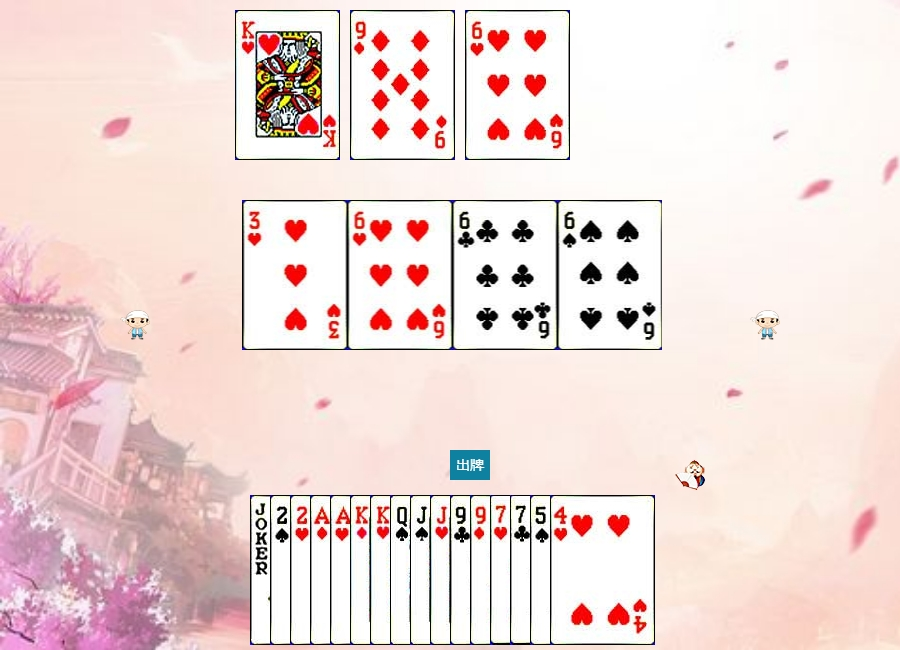11~3: (430, 495, 535, 645)
11~4: (410, 495, 515, 645)
12~4: (390, 495, 495, 645)
13~1: (350, 495, 455, 645)
13~3: (235, 10, 340, 160), (370, 495, 475, 645)
14~1: (310, 495, 415, 645)
14~3: (330, 495, 435, 645)
15~3: (290, 495, 395, 645)
15~4: (270, 495, 375, 645)
17~3: (250, 495, 355, 645)
3~3: (243, 200, 348, 350)
4~3: (550, 495, 655, 645)
5~4: (530, 495, 635, 645)
6~2: (453, 200, 558, 350)
6~3: (465, 10, 570, 160), (348, 200, 453, 350)
6~4: (558, 200, 663, 350)
7~2: (510, 495, 615, 645)
7~3: (490, 495, 595, 645)
9~1: (350, 10, 455, 160), (470, 495, 575, 645)
9~2: (450, 495, 555, 645)
